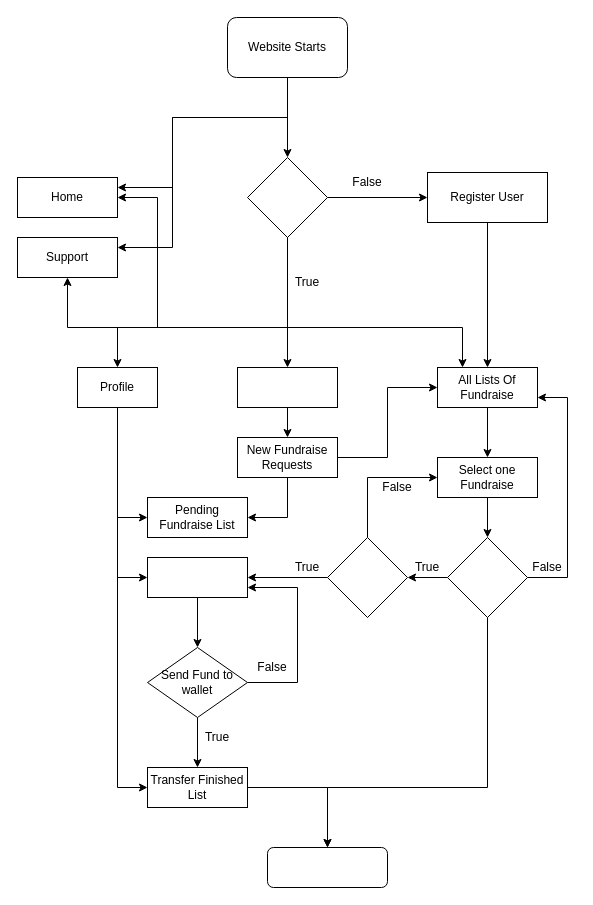
The diagram is 593 pixels wide and 905 high, and some of its shapes have lost their labels. Each missing label, with the box of its shape:
Create New Fundraise: (236, 366, 338, 408)
Donate Money: (446, 536, 528, 618)
Fund Collected List: (146, 556, 248, 598)
Fund Collection Complete: (326, 536, 408, 618)
Is User Logged In: (246, 156, 328, 238)
Website Close: (266, 846, 388, 888)
